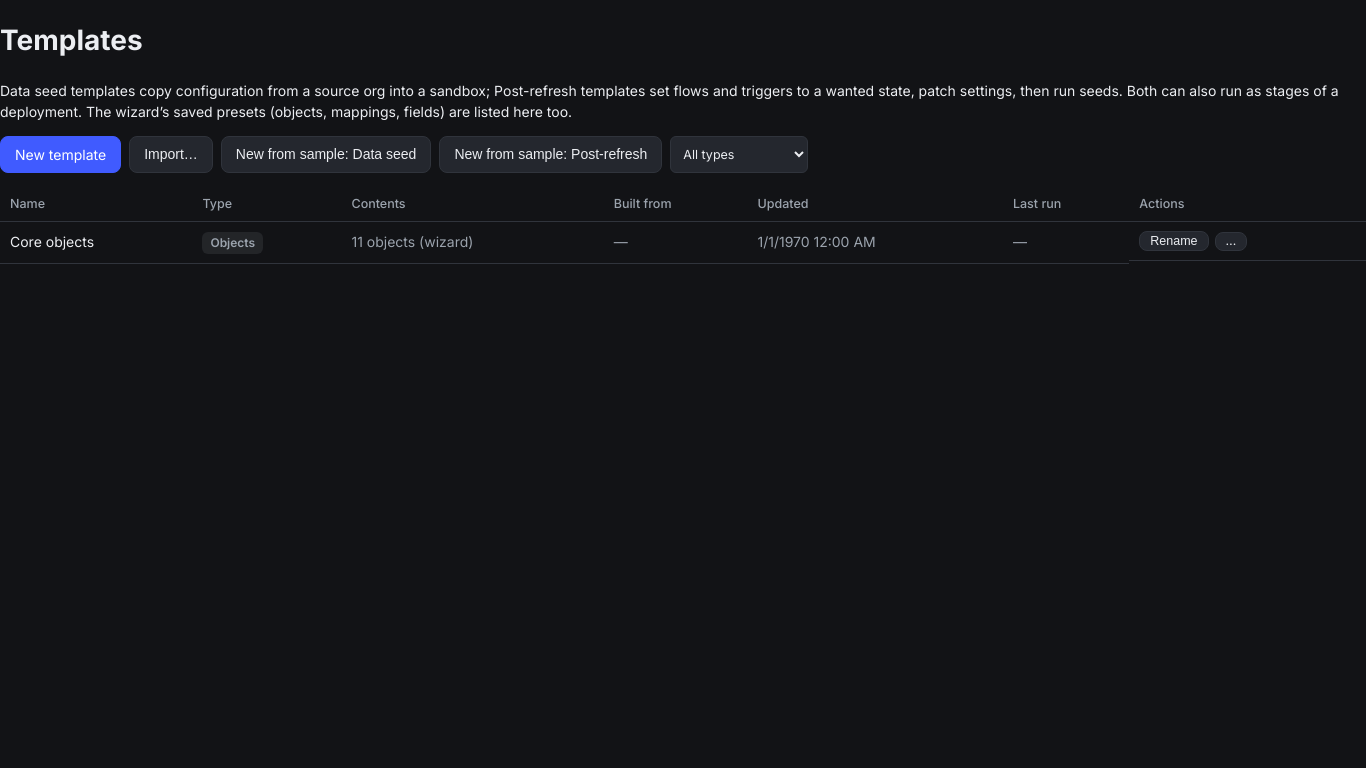
Test case: Templates › Rename › renames through a modal with a text field (no window.prompt)
Click the button "Rename": (1174, 241) [1139, 231, 1209, 251]
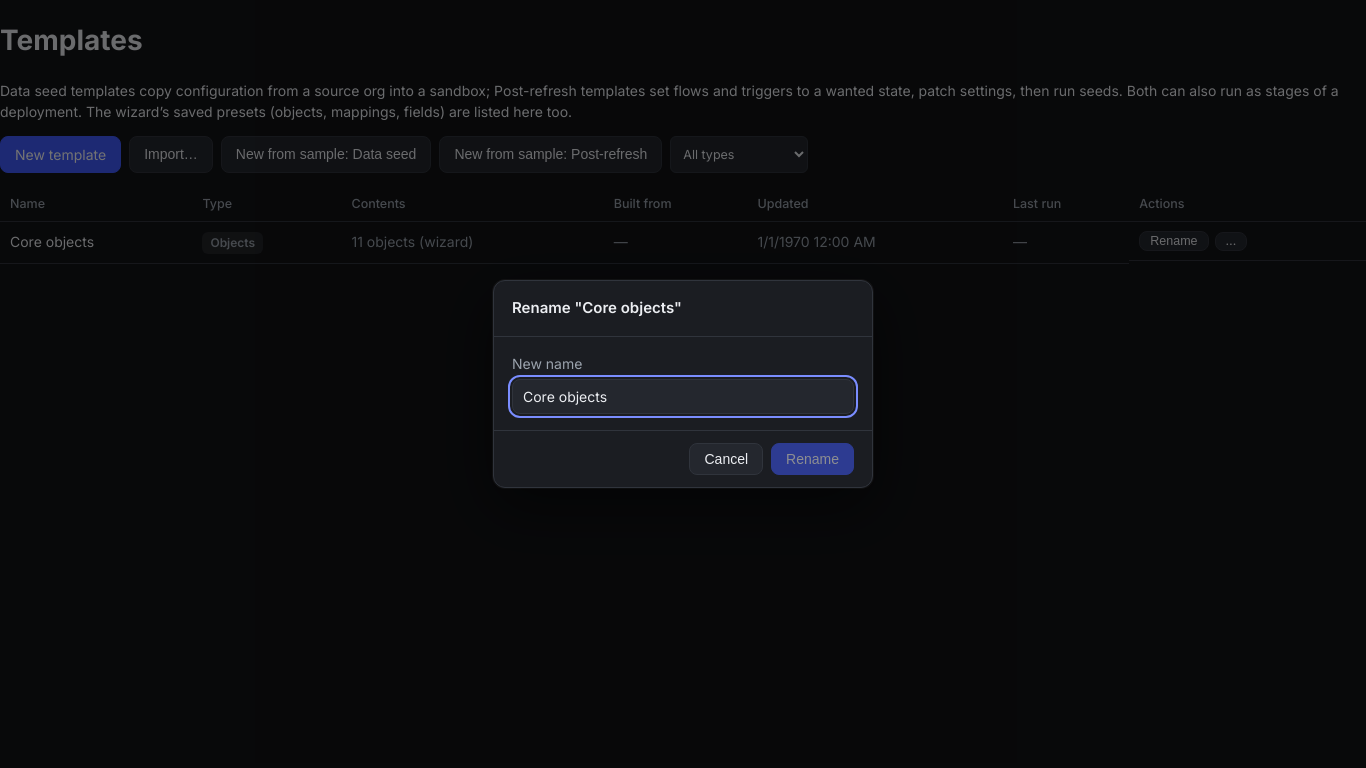
expect the button "Rename" is disabled: met, box [771, 443, 854, 475]
Replace the text in the field named "New template name" with "Core v2": (683, 396) [512, 379, 854, 414]
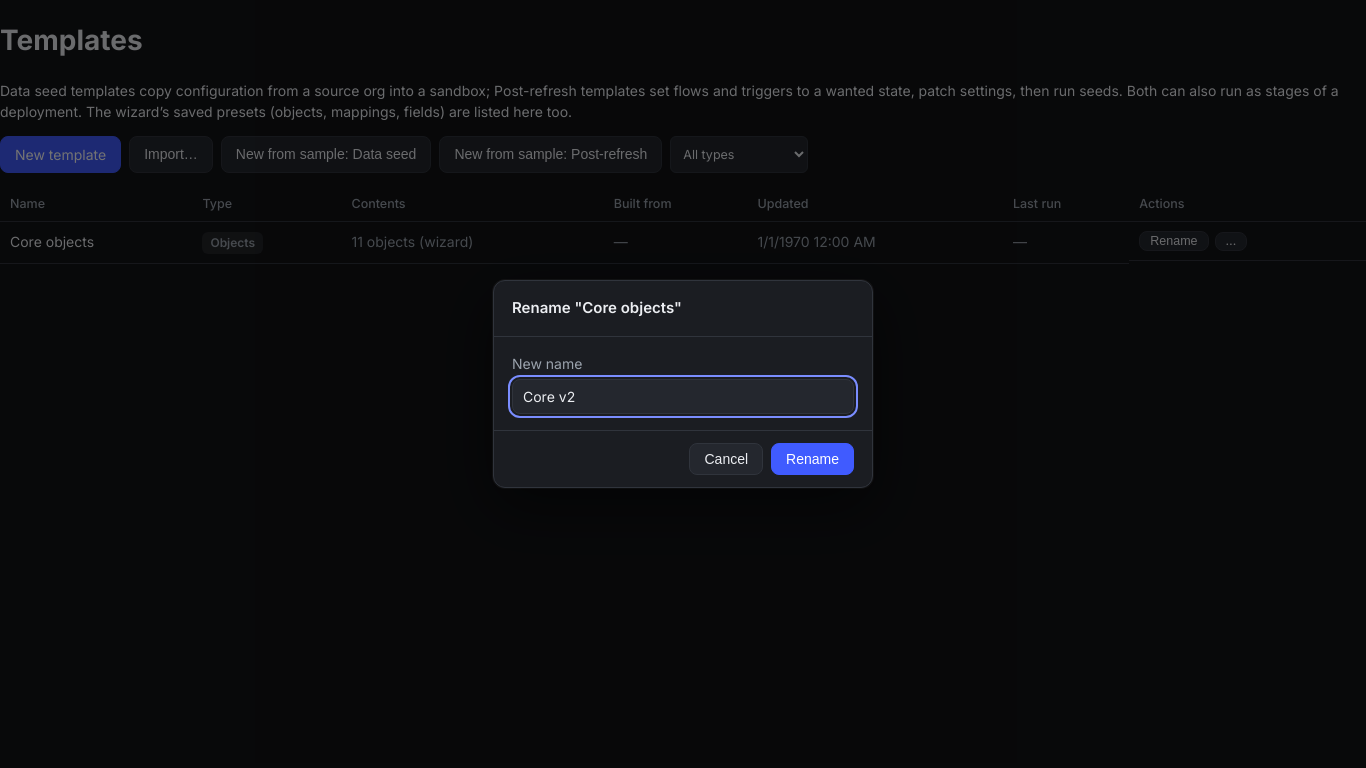
Click the button "Rename": (813, 459) [771, 443, 854, 475]
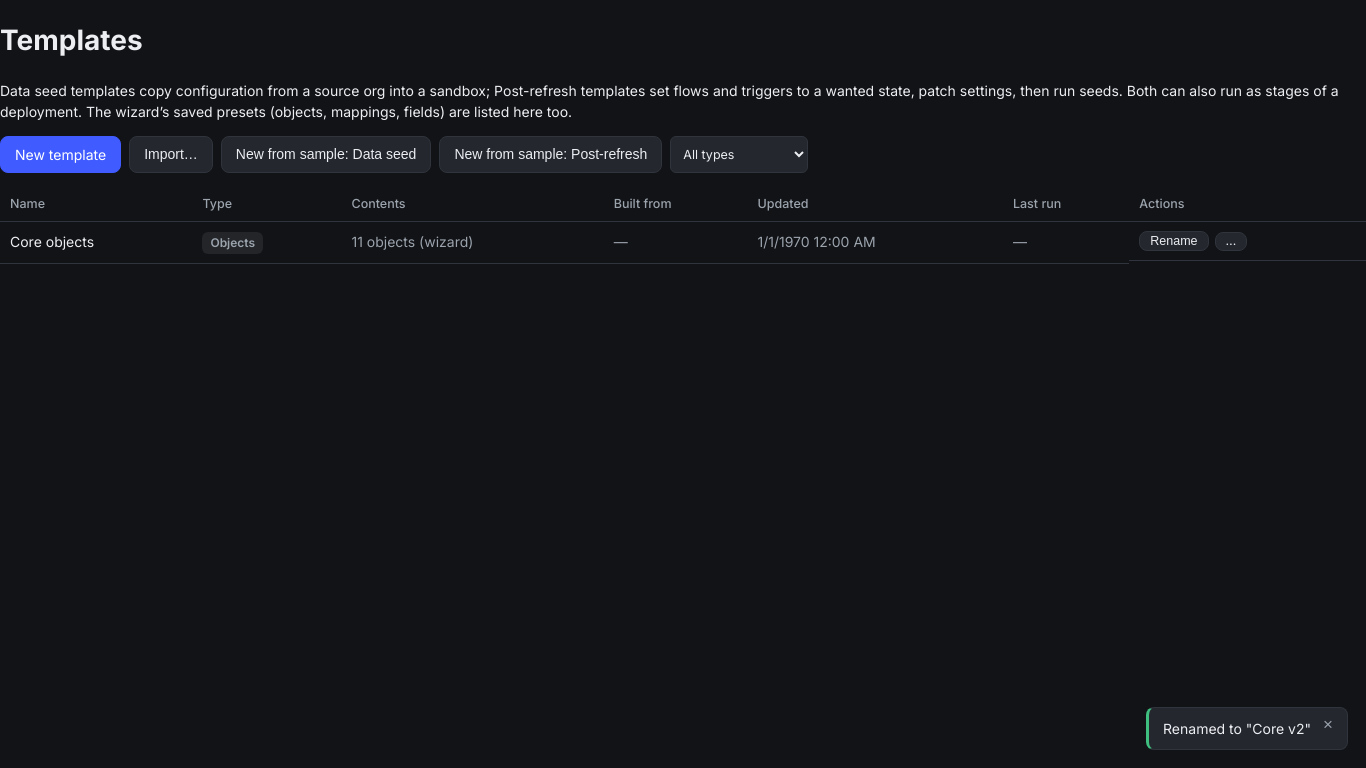
expect the dialog is gone: met
